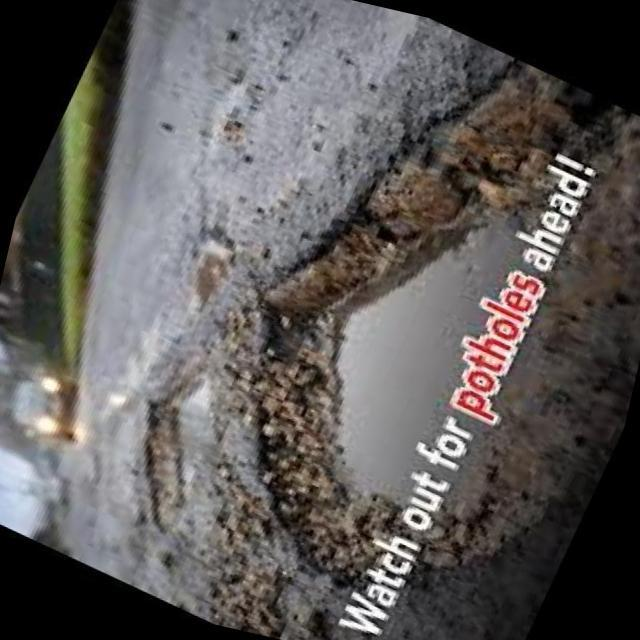pothole: (208, 8, 640, 634), (121, 350, 240, 536)
